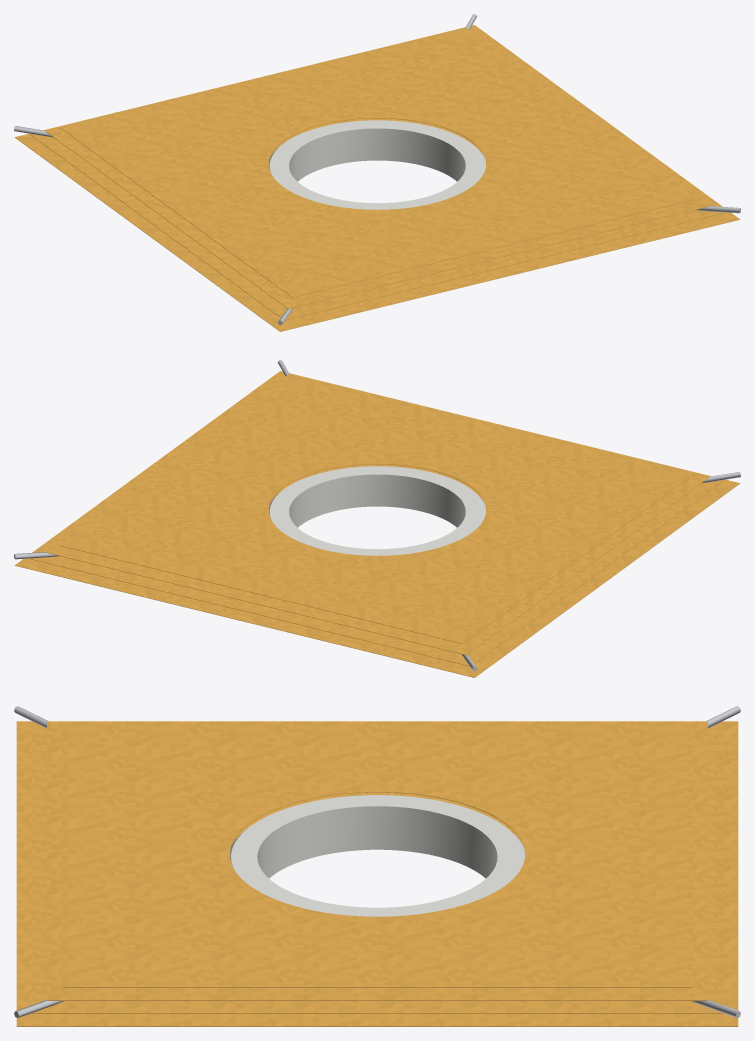
Rendered from ax_util_30_sunshade_m_deployed.glb.
The picture shows the model from 3 angles, top to bottom: view 1: azimuth 30°, elevation 25°; view 2: azimuth 150°, elevation 25°; view 3: azimuth 270°, elevation 25°; orthographic projection. The views are drawn at different scales.
Parts seen in each view (by area): view 1: membrane_layers, canister_ring, booms; view 2: membrane_layers, canister_ring, booms; view 3: membrane_layers, canister_ring, booms.
Boxes of the visible parts, bbox=[...] form: membrane_layers: bbox=[15, 25, 739, 331]; canister_ring: bbox=[269, 120, 485, 209]; booms: bbox=[14, 14, 740, 325]; membrane_layers: bbox=[15, 371, 739, 677]; canister_ring: bbox=[269, 466, 485, 555]; booms: bbox=[14, 360, 740, 671]; membrane_layers: bbox=[16, 721, 738, 1026]; canister_ring: bbox=[230, 795, 524, 916]; booms: bbox=[14, 706, 740, 1017].
Size of the model in its own units: 6.05 by 0.424 by 6.05.
3 materials, 2 textured.
